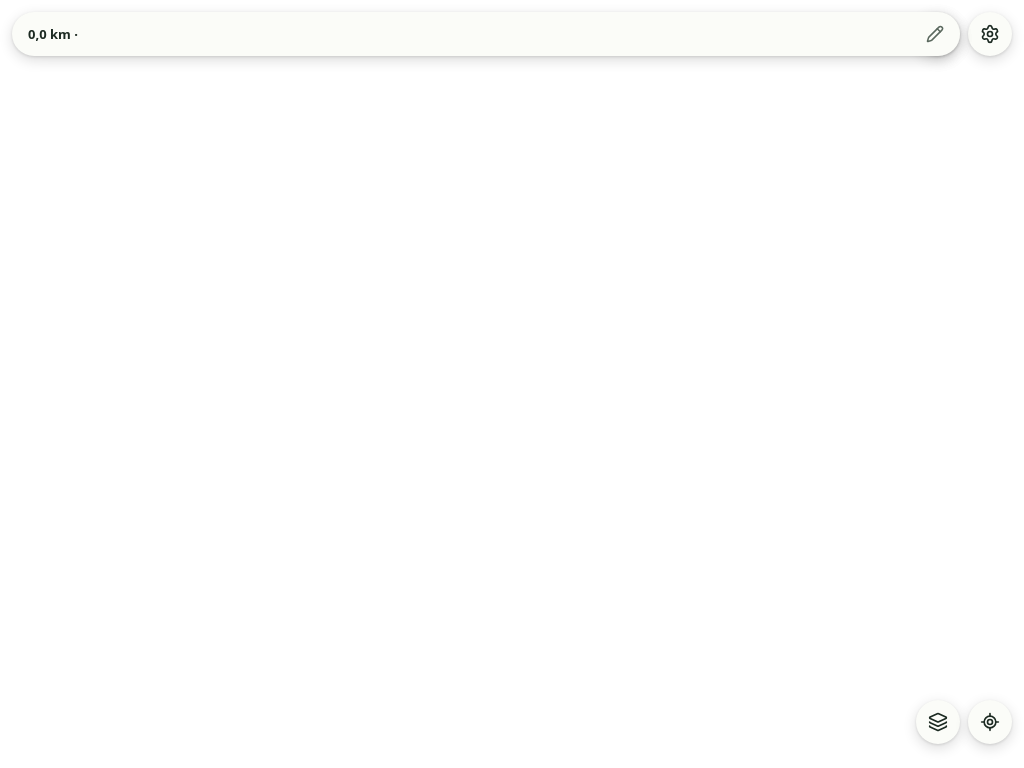
it: App › speaks French when the browser prefers French
This screenshot has width=1024, height=768.
Click the link with test id "criteria-settings".
click(990, 34)  # box [968,12,1012,56]
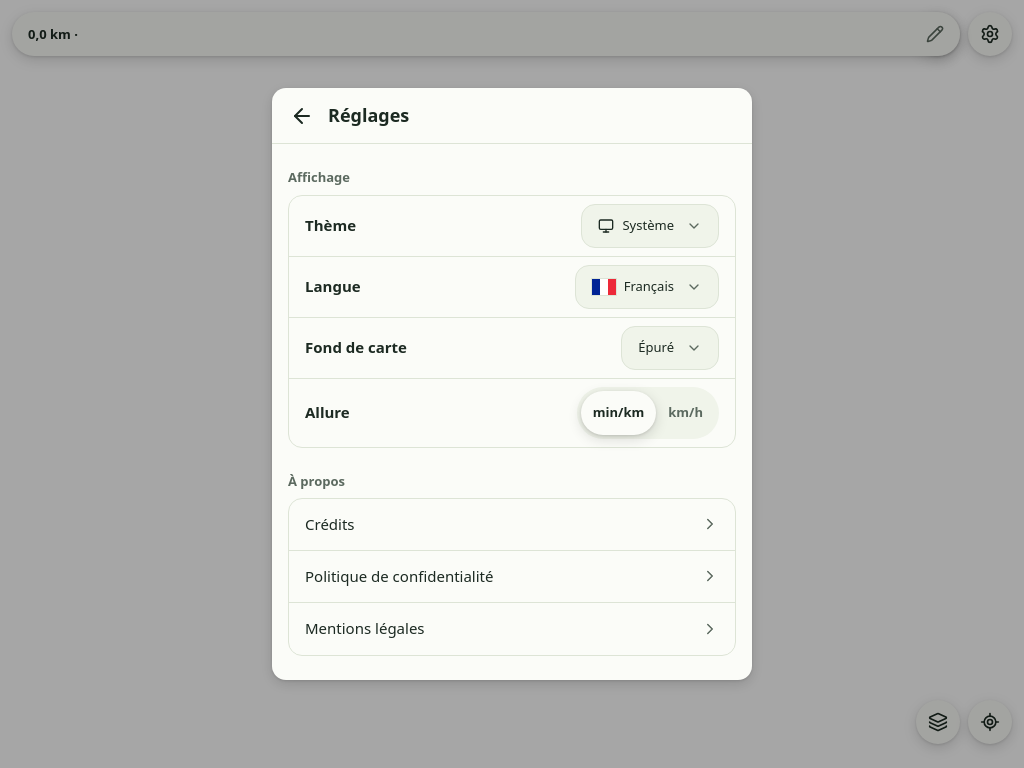
Click the link with test id "settings-privacy".
click(399, 576)  # box [289,551,735,603]
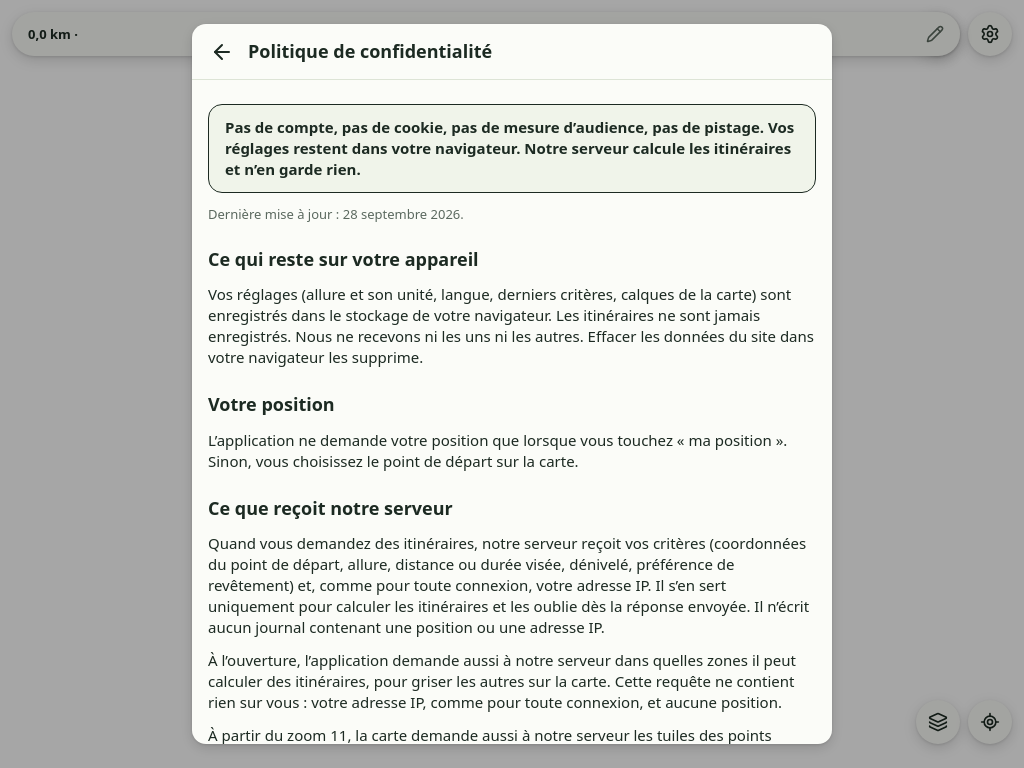
Check: the heading with test id "sub-page-title" reads "Politique de confidentialité", box [248,39,492,63]
